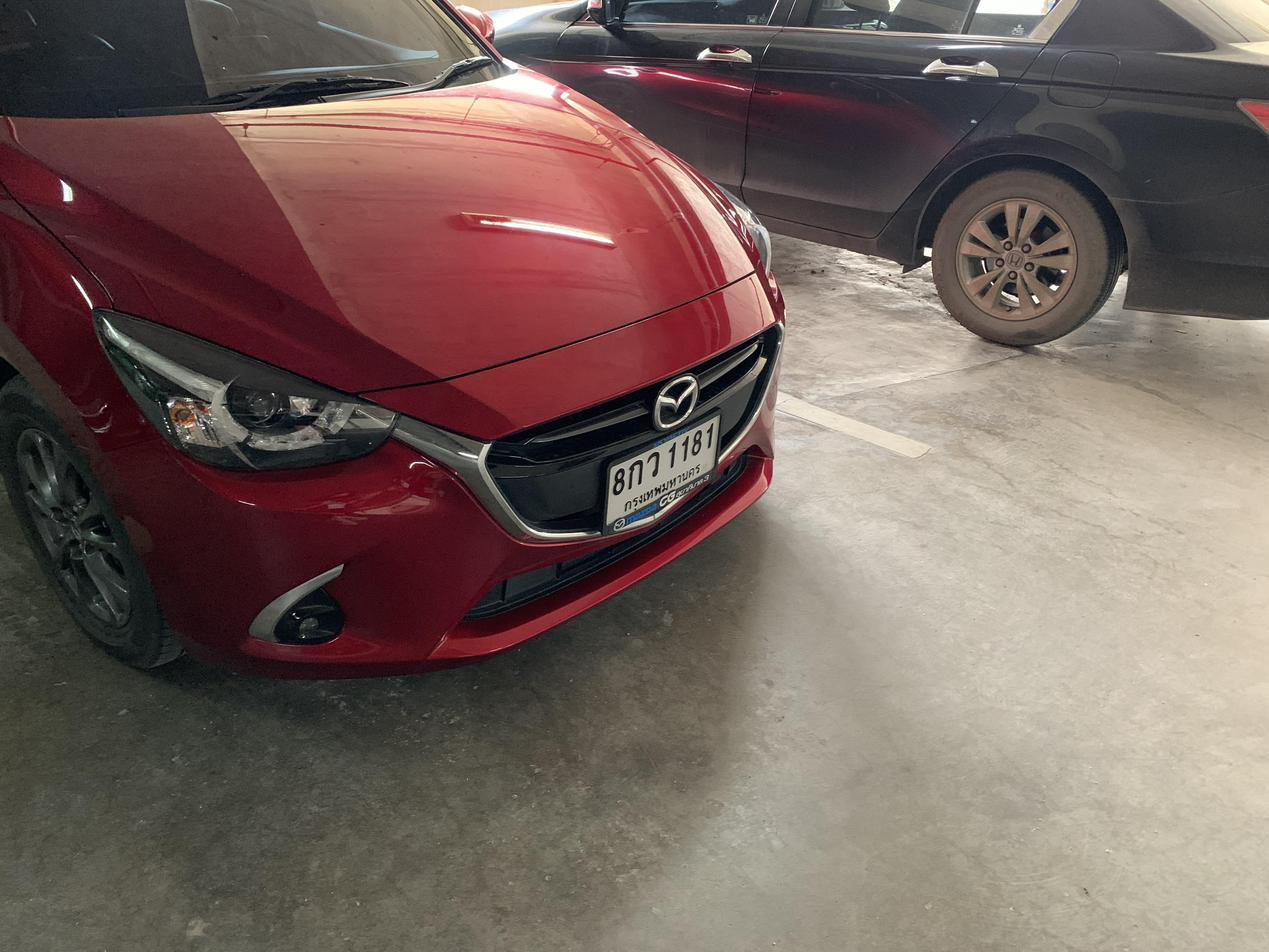license-plate: (600, 403, 731, 543)
